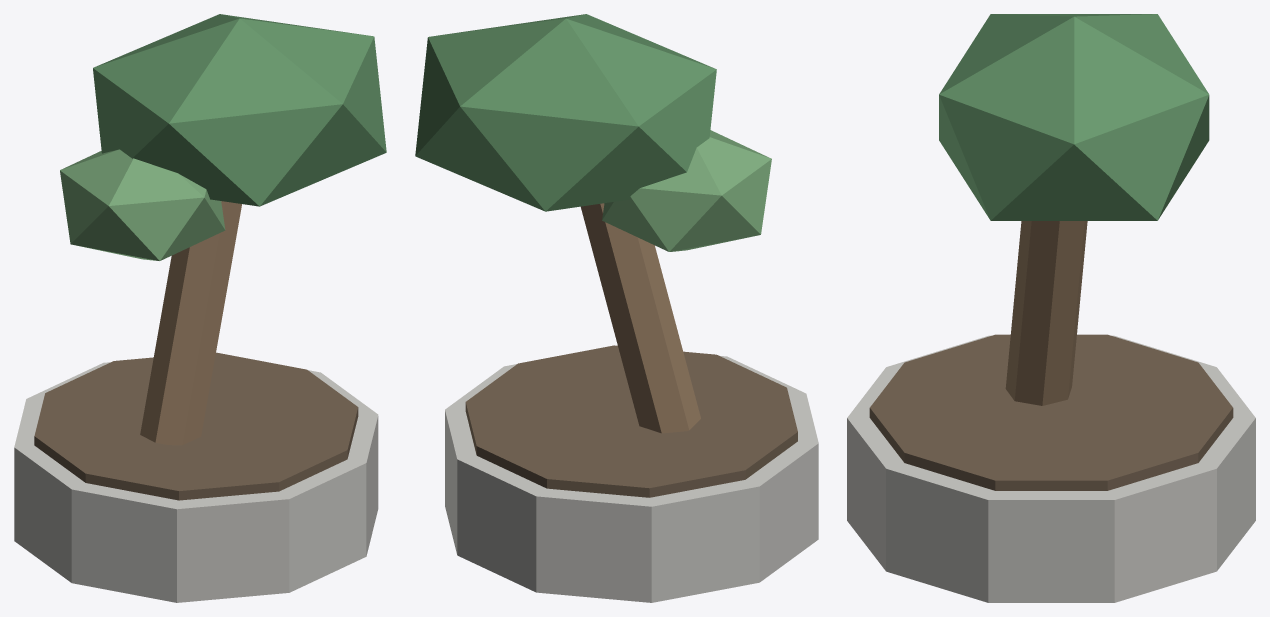
Rendered from pla_bonsai_sala.glb.
The picture shows the model from 3 angles, left to right: view 1: azimuth 30°, elevation 25°; view 2: azimuth 150°, elevation 25°; view 3: azimuth 270°, elevation 25°; orthographic projection. The views are drawn at different scales.
Parts seen in each view (by area): view 1: PLA_BONSAI_SALA_v01; view 2: PLA_BONSAI_SALA_v01; view 3: PLA_BONSAI_SALA_v01.
Boxes of the visible parts, x1=… form: PLA_BONSAI_SALA_v01: x1=14, y1=14, x2=386, y2=602; PLA_BONSAI_SALA_v01: x1=415, y1=14, x2=818, y2=602; PLA_BONSAI_SALA_v01: x1=847, y1=14, x2=1255, y2=602.
Size of the model in its own units: 0.3815 by 0.518 by 0.36.
